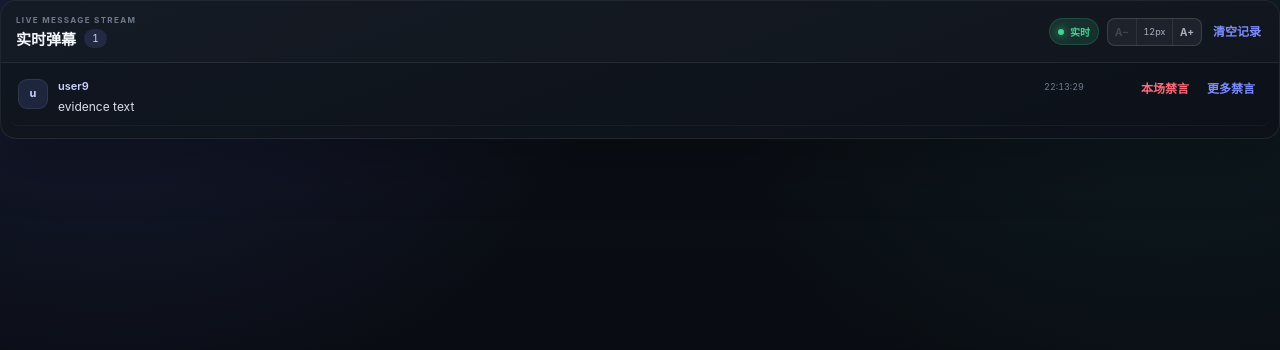
Test: DanmakuList.vue › more 禁言 opens one shared panel with the selected message
Step 1. Click the button with test id "more-ban-btn" → click(1231, 89), box [1204,80,1258,98]
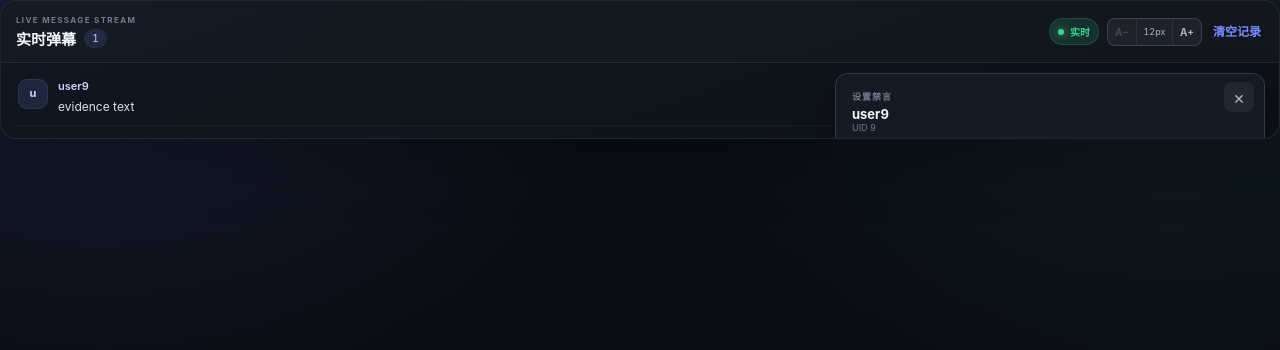
Expected: the element with test id "ban-panel" shows "user9", [852,106,889,122]
